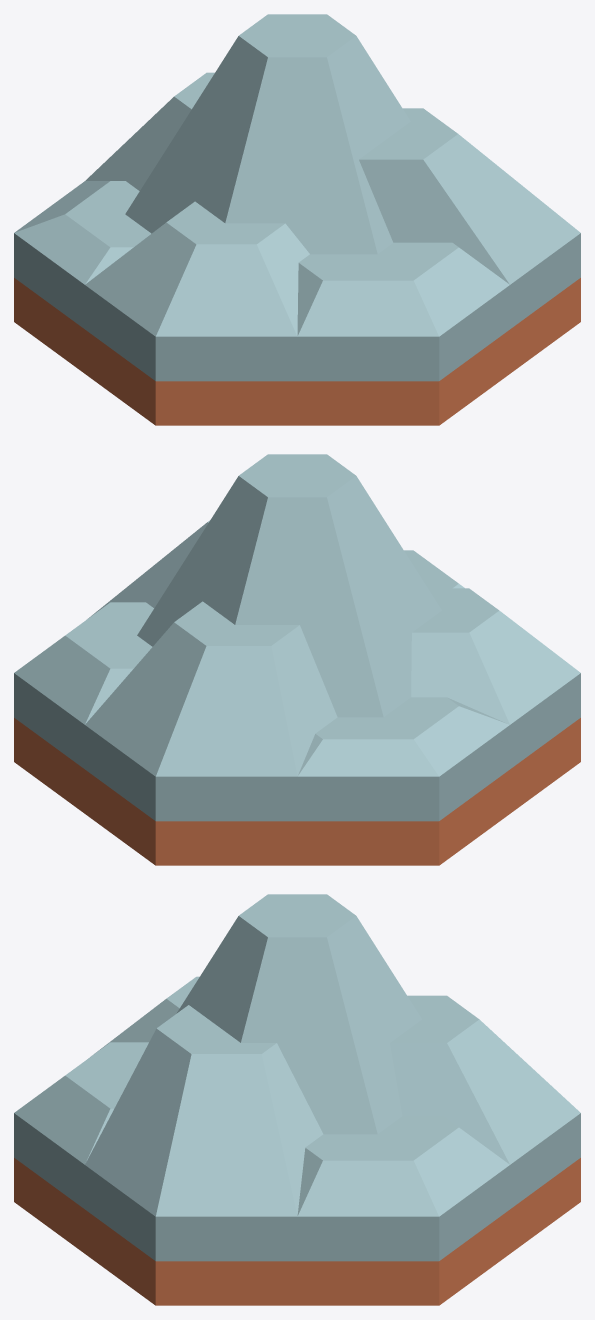
The model's file is stone_hill.fbx.
3 views of the same model, one above another, from view 1: azimuth 30°, elevation 25°; view 2: azimuth 150°, elevation 25°; view 3: azimuth 270°, elevation 25° (orthographic).
Visible parts, largest first — view 1: rockLarge, stone_hill; view 2: rockLarge, stone_hill; view 3: rockLarge, stone_hill.
Boxes of the visible parts, <box> form: rockLarge: <box>14,14,580,336</box>; stone_hill: <box>14,233,580,425</box>; rockLarge: <box>14,454,580,776</box>; stone_hill: <box>14,673,580,865</box>; rockLarge: <box>14,894,580,1216</box>; stone_hill: <box>14,1113,580,1305</box>.
Size of the model in its own units: 10 by 6.43 by 11.55.
